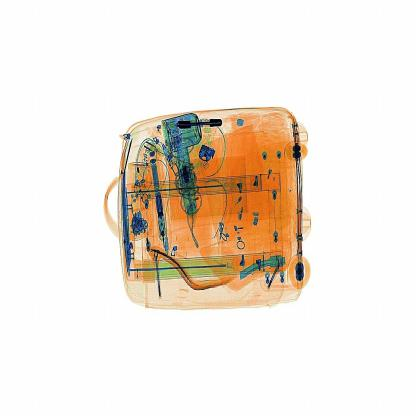knife: (176, 117, 228, 132)
